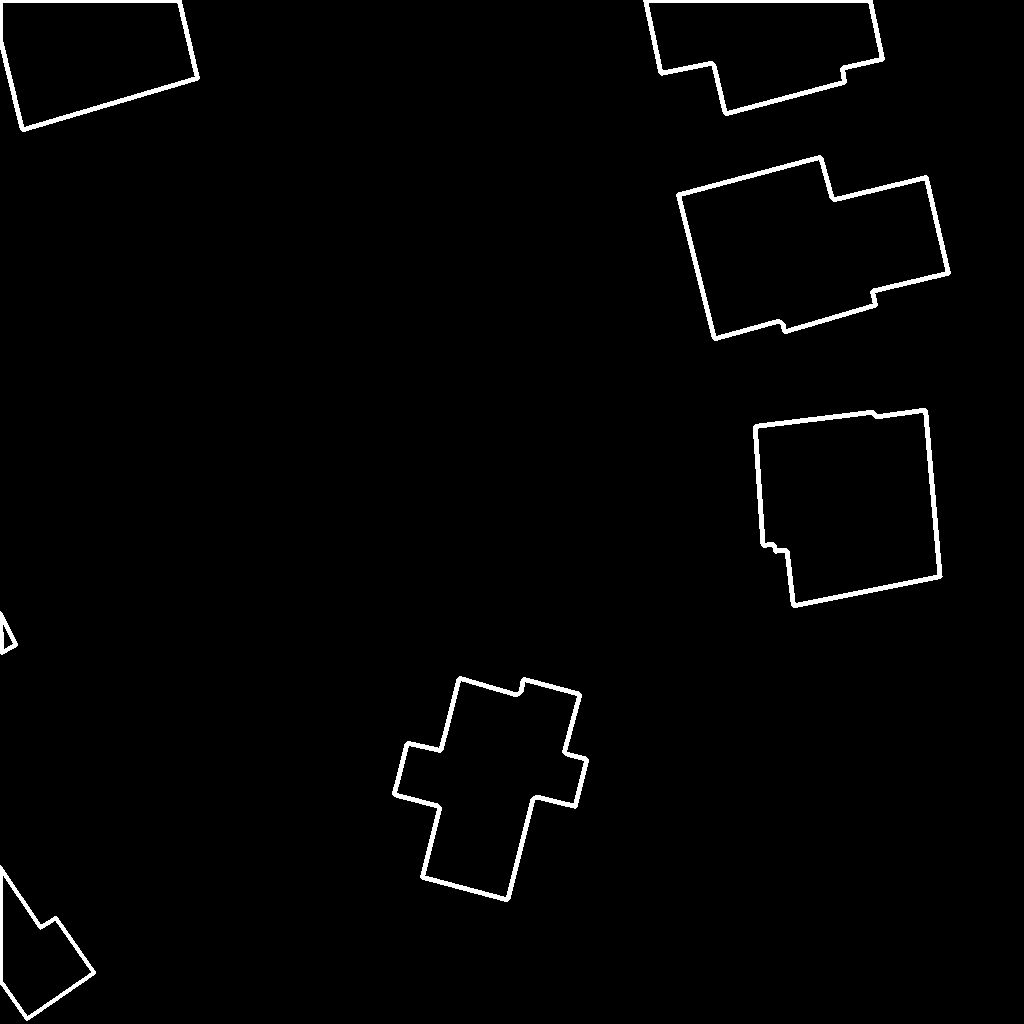building: (678, 157, 950, 340), (394, 678, 588, 901), (755, 410, 941, 607), (645, 0, 884, 115), (0, 0, 199, 131), (0, 867, 95, 1020), (0, 612, 17, 654)
